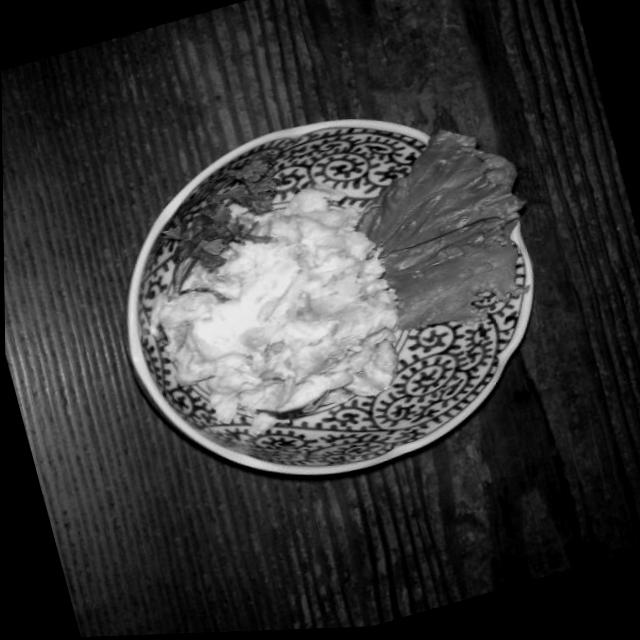蔬菜料理: (81, 68, 586, 530)
